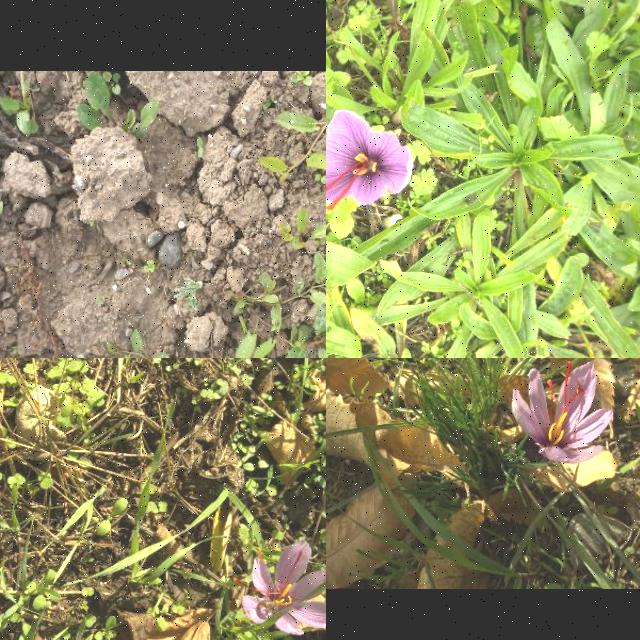flower: (512, 363, 614, 465), (326, 109, 413, 212), (241, 540, 326, 636)
